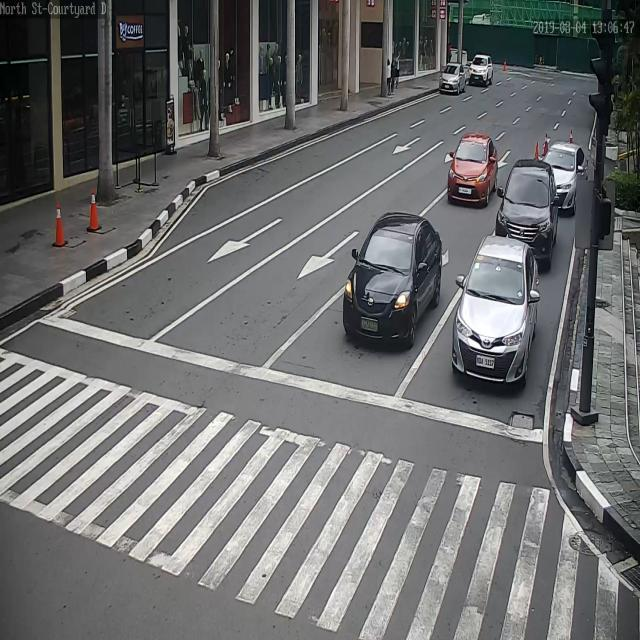car: (343, 212, 444, 348), (455, 234, 540, 385), (495, 160, 559, 263), (447, 133, 499, 206), (540, 143, 590, 207), (440, 62, 469, 93), (469, 58, 496, 87)
